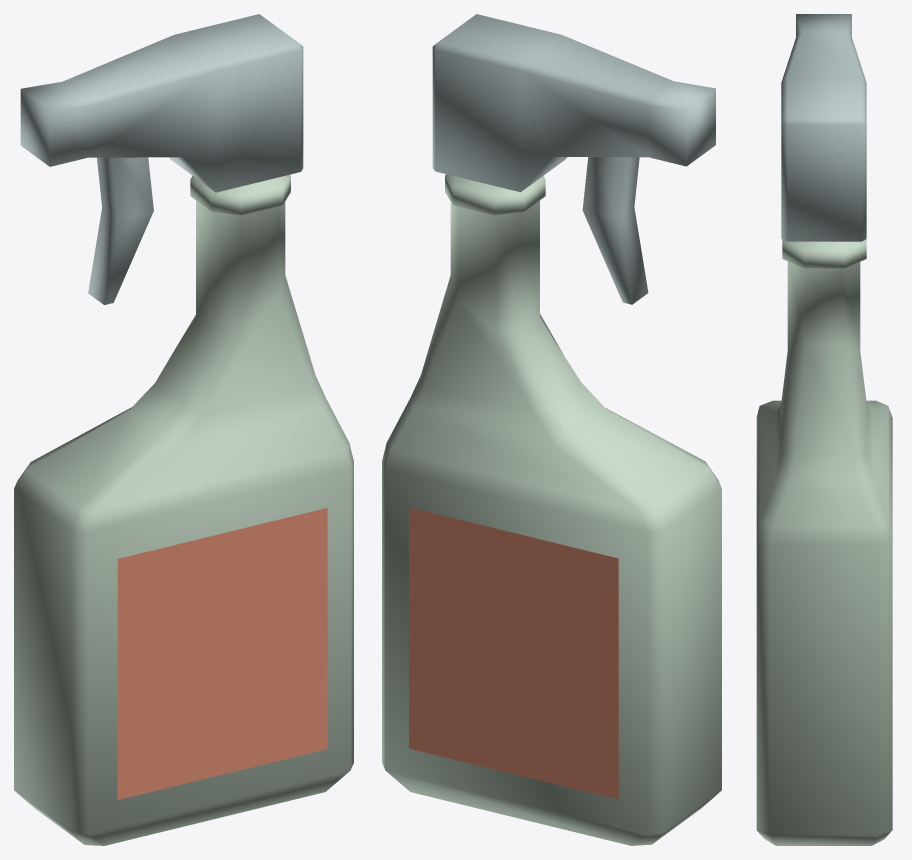
File: cilitbang.fbx
3 views of the same model, side by side, from view 1: azimuth 30°, elevation 25°; view 2: azimuth 150°, elevation 25°; view 3: azimuth 270°, elevation 25° (orthographic). The views are drawn at different scales.
Visible parts, largest first — view 1: cillitbang_reference; view 2: cillitbang_reference; view 3: cillitbang_reference.
Boxes of the visible parts, <box> form: cillitbang_reference: <box>14,14,353,845</box>; cillitbang_reference: <box>382,14,721,845</box>; cillitbang_reference: <box>756,14,892,845</box>.
Bounding box in the file's own units: 0.148 × 0.3629 × 0.0678.
